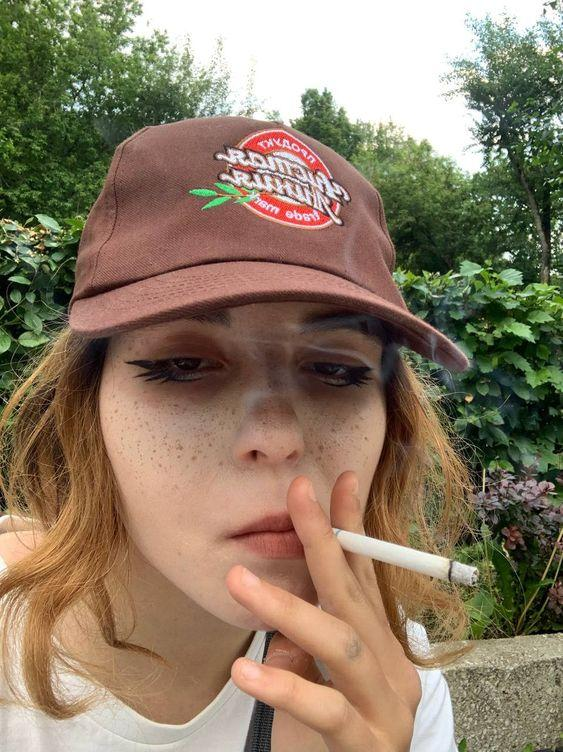cigarette: (332, 528, 481, 587)
